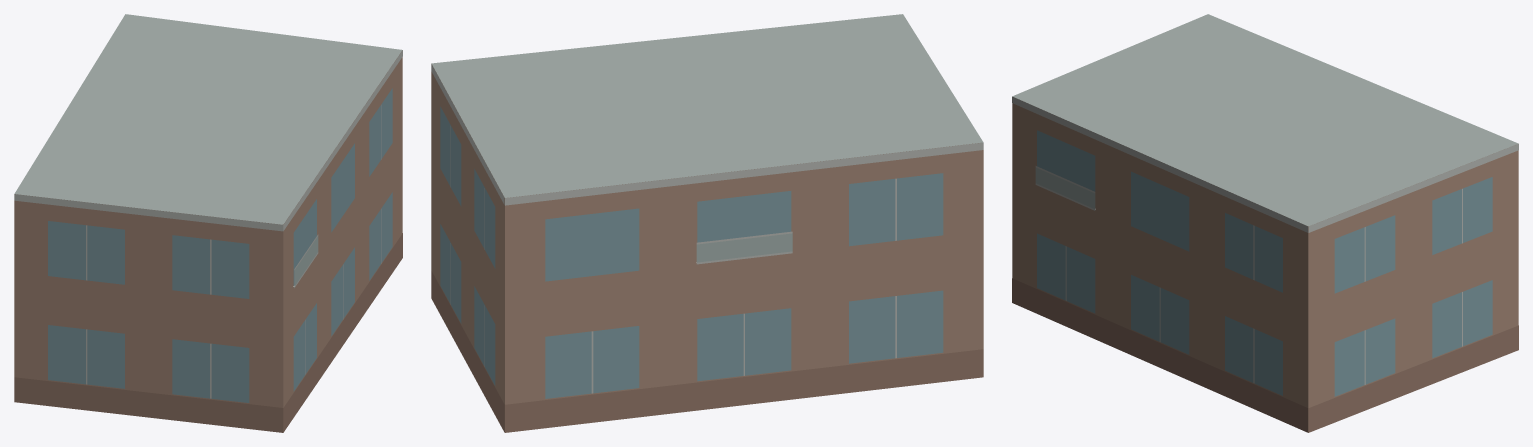
The model's file is survey-upis-32887646.glb.
3 views of the same model, side by side, from view 1: azimuth 30°, elevation 25°; view 2: azimuth 150°, elevation 25°; view 3: azimuth 270°, elevation 25° (orthographic). The views are drawn at different scales.
Visible parts, largest first — view 1: survey-upis-32887646.tmp; view 2: survey-upis-32887646.tmp; view 3: survey-upis-32887646.tmp.
Part boxes in pixels (x1,y1,x2,y2): survey-upis-32887646.tmp: (14, 14, 402, 432); survey-upis-32887646.tmp: (431, 14, 983, 432); survey-upis-32887646.tmp: (1012, 14, 1518, 432).
Bounding box in the file's own units: 16.78 × 7.6 × 16.91.
